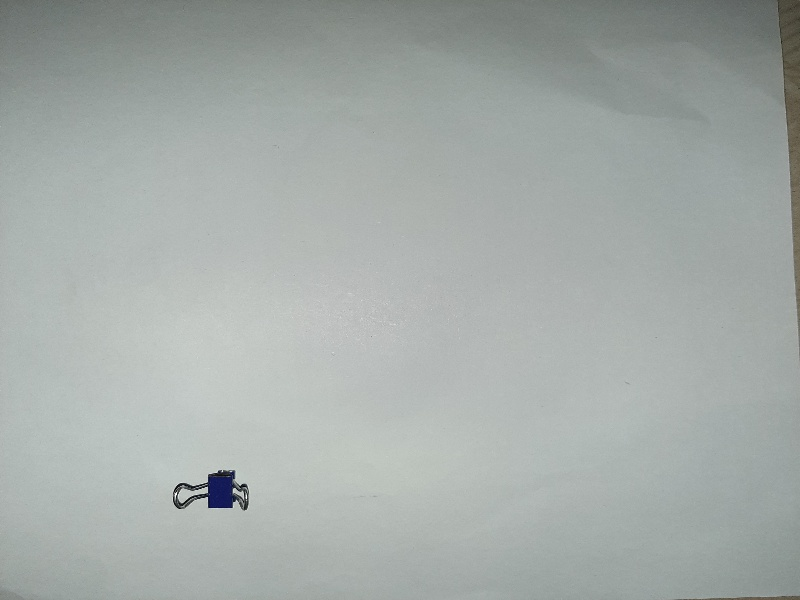Small Paperclip: (167, 458, 257, 514)
